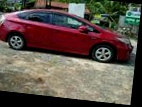car: (0, 3, 137, 66)
